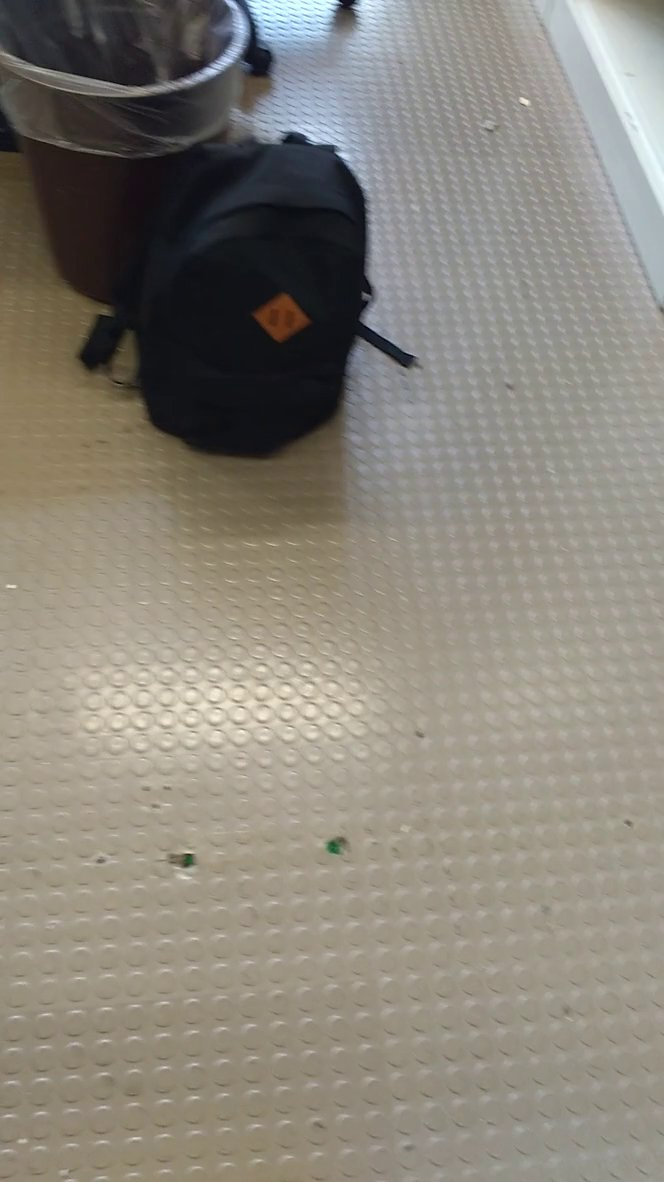bag: (76, 123, 426, 473)
bin: (3, 2, 258, 186)
